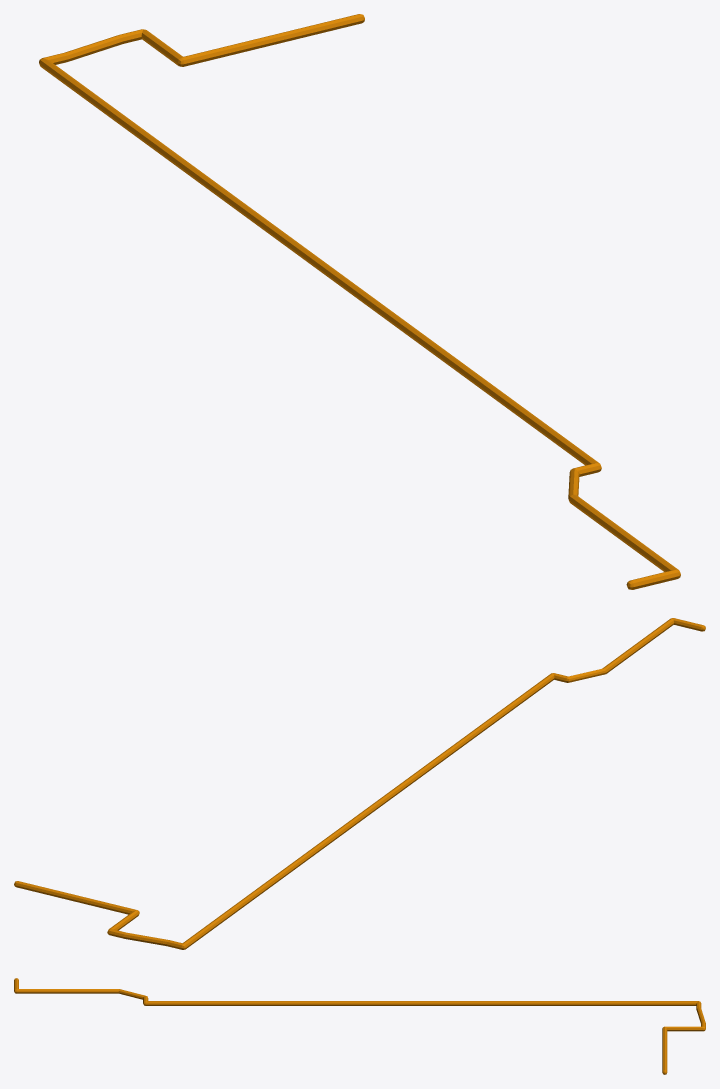
3 views of the same model, one above another, from view 1: azimuth 30°, elevation 25°; view 2: azimuth 150°, elevation 25°; view 3: azimuth 270°, elevation 25° (orthographic). The views are drawn at different scales.
Size of the model in its own units: 866 by 20 by 2690.
